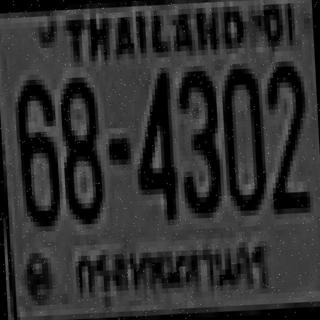N00: (221, 63, 265, 212)
N02: (263, 58, 308, 212)
N03: (175, 66, 219, 214)
N04: (132, 68, 176, 216)
N06: (14, 76, 61, 225)
N08: (58, 72, 102, 220)
P04: (66, 231, 278, 313)
